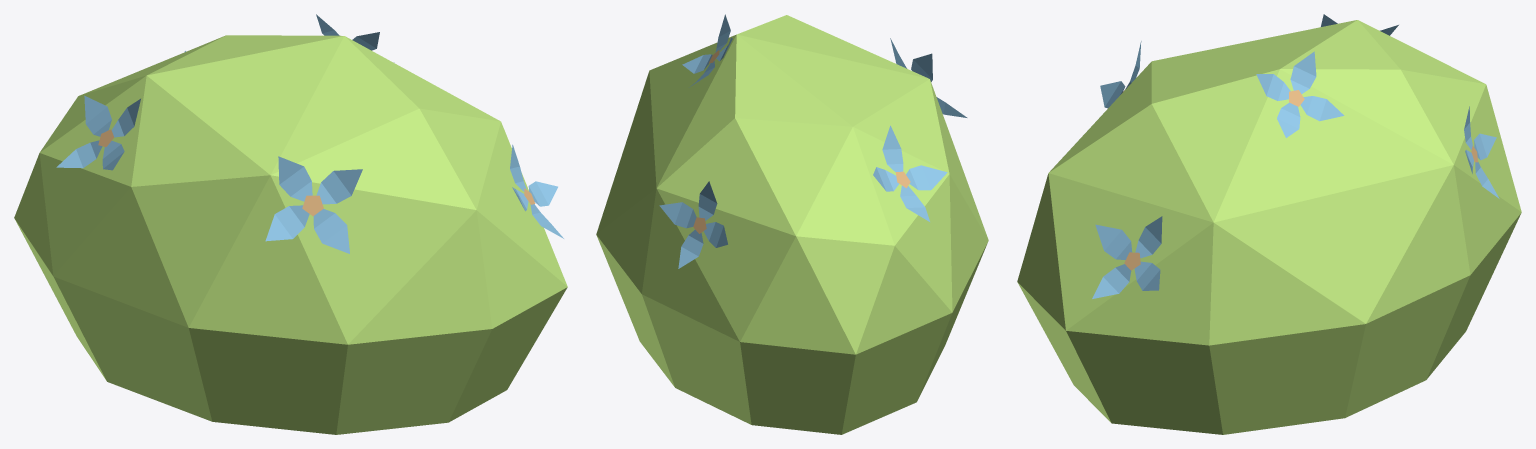
The model's file is FlowerBush_h_m_02.fbx.
3 renders of one model, left to right at view 1: azimuth 30°, elevation 25°; view 2: azimuth 150°, elevation 25°; view 3: azimuth 270°, elevation 25°, orthographic. The views are drawn at different scales.
Visible parts, largest first — view 1: FlowerBush_h_m_02; view 2: FlowerBush_h_m_02; view 3: FlowerBush_h_m_02.
Part boxes in pixels (<box>): FlowerBush_h_m_02: <box>14,14,567,434</box>; FlowerBush_h_m_02: <box>596,14,988,434</box>; FlowerBush_h_m_02: <box>1017,14,1521,434</box>.
Bounding box in the file's own units: 1.52 × 1.14 × 1.6.
